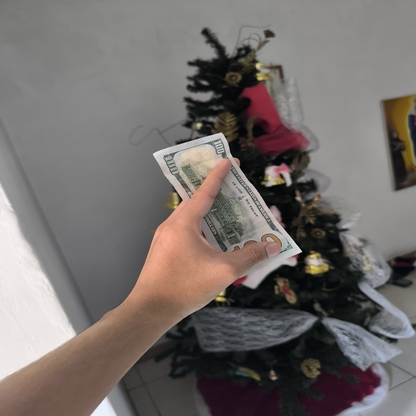one_hundred-back: (151, 133, 304, 287)
